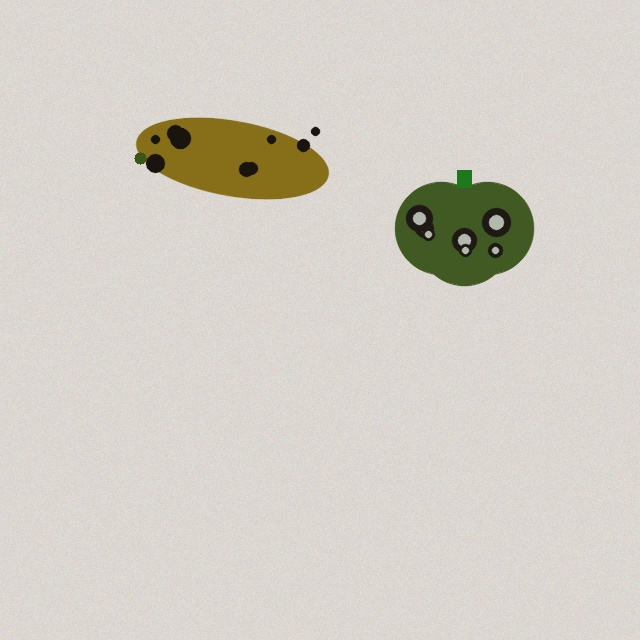Rotten banana: (131, 112, 333, 204)
Rotten bell pepper: (395, 170, 533, 285)
